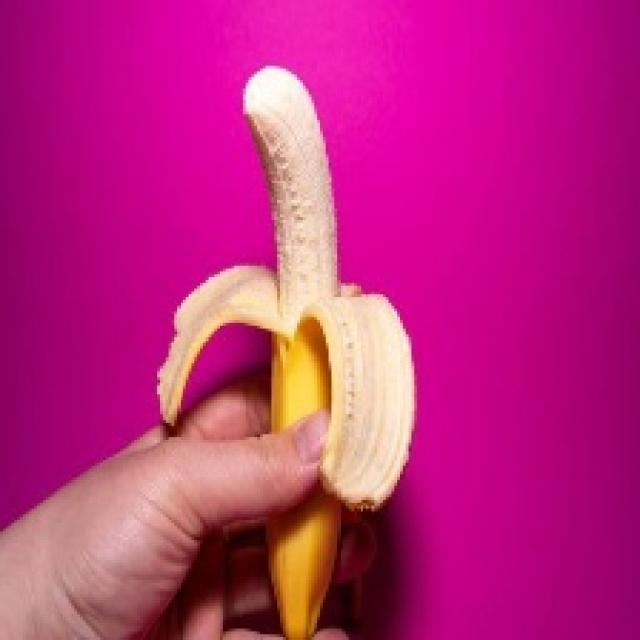Banana: (154, 63, 414, 637)
